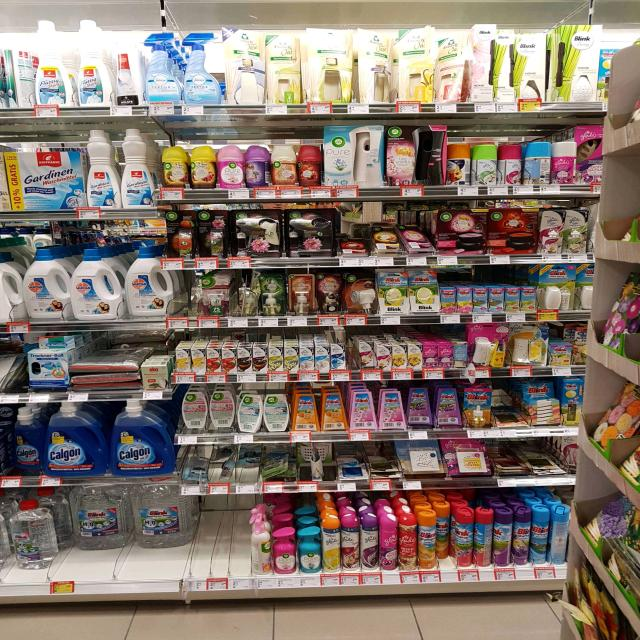empty: (190, 494, 250, 579)
